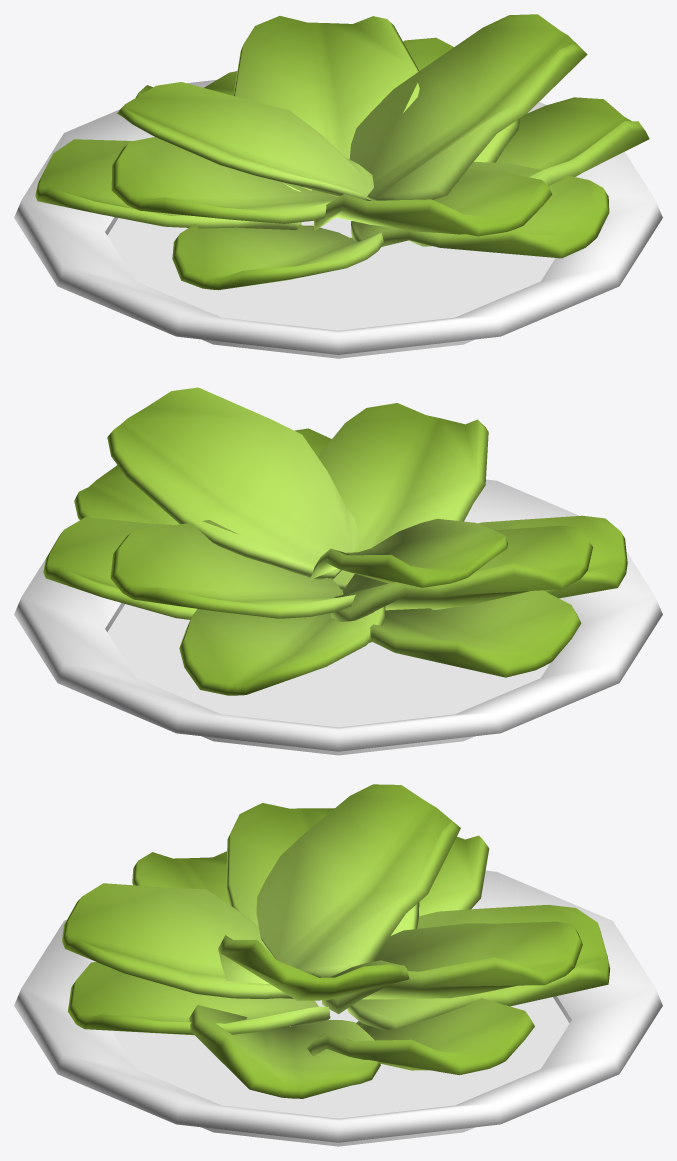
The model's file is LettuceSalad.fbx.
3 renders of one model, top to bottom at view 1: azimuth 30°, elevation 25°; view 2: azimuth 150°, elevation 25°; view 3: azimuth 270°, elevation 25°, orthographic.
Visible parts, largest first — view 1: LettuceSaladPlate, LettuceSalad.008, LettuceSalad.007, LettuceSalad.010, LettuceSalad.006, LettuceSalad.003, LettuceSalad.005, LettuceSalad.002, LettuceSalad.009, LettuceSalad.004, LettuceSalad.001, LettuceSalad; view 2: LettuceSaladPlate, LettuceSalad.008, LettuceSalad.005, LettuceSalad.007, LettuceSalad.004, LettuceSalad, LettuceSalad.006, LettuceSalad.010, LettuceSalad.001, LettuceSalad.003, LettuceSalad.009; view 3: LettuceSaladPlate, LettuceSalad.010, LettuceSalad.005, LettuceSalad.007, LettuceSalad.002, LettuceSalad.009, LettuceSalad.001, LettuceSalad, LettuceSalad.006, LettuceSalad.008, LettuceSalad.004, LettuceSalad.003.
Part boxes in pixels (x1=…): LettuceSaladPlate: x1=14, y1=80, x2=662, y2=358; LettuceSalad.008: x1=349, y1=14, x2=587, y2=200; LettuceSalad.007: x1=233, y1=16, x2=419, y2=196; LettuceSalad.010: x1=117, y1=82, x2=373, y2=199; LettuceSalad.006: x1=111, y1=137, x2=338, y2=223; LettuceSalad.003: x1=172, y1=223, x2=384, y2=290; LettuceSalad.005: x1=313, y1=167, x2=552, y2=236; LettuceSalad.002: x1=351, y1=162, x2=609, y2=258; LettuceSalad.009: x1=409, y1=97, x2=649, y2=246; LettuceSalad.004: x1=35, y1=139, x2=301, y2=229; LettuceSalad.001: x1=403, y1=37, x2=520, y2=162; LettuceSalad: x1=135, y1=71, x2=300, y2=191; LettuceSaladPlate: x1=14, y1=479, x2=662, y2=755; LettuceSalad.008: x1=107, y1=387, x2=360, y2=579; LettuceSalad.005: x1=318, y1=403, x2=488, y2=590; LettuceSalad.007: x1=110, y1=520, x2=355, y2=618; LettuceSalad.004: x1=369, y1=590, x2=581, y2=677; LettuceSalad: x1=179, y1=606, x2=385, y2=695; LettuceSalad.006: x1=330, y1=525, x2=592, y2=621; LettuceSalad.010: x1=310, y1=518, x2=507, y2=587; LettuceSalad.001: x1=43, y1=517, x2=196, y2=619; LettuceSalad.003: x1=431, y1=515, x2=627, y2=609; LettuceSalad.009: x1=74, y1=465, x2=179, y2=524; LettuceSaladPlate: x1=14, y1=870, x2=662, y2=1146; LettuceSalad.010: x1=256, y1=784, x2=460, y2=977; LettuceSalad.005: x1=62, y1=883, x2=293, y2=999; LettuceSalad.007: x1=322, y1=921, x2=582, y2=1013; LettuceSalad.002: x1=67, y1=962, x2=330, y2=1035; LettuceSalad.009: x1=189, y1=1005, x2=380, y2=1098; LettuceSalad.001: x1=307, y1=998, x2=534, y2=1075; LettuceSalad: x1=347, y1=905, x2=609, y2=1030; LettuceSalad.006: x1=226, y1=803, x2=419, y2=935; LettuceSalad.008: x1=218, y1=935, x2=409, y2=1000; LettuceSalad.004: x1=419, y1=835, x2=489, y2=915; LettuceSalad.003: x1=132, y1=851, x2=229, y2=904.
Size of the model in its own units: 0.6132 by 0.1967 by 0.6132.
2 materials, 2 textured.
